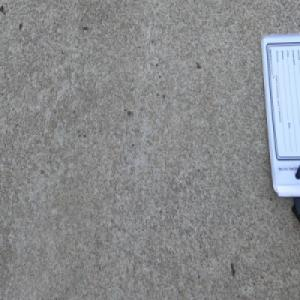LuggageTag: (259, 30, 300, 230)
